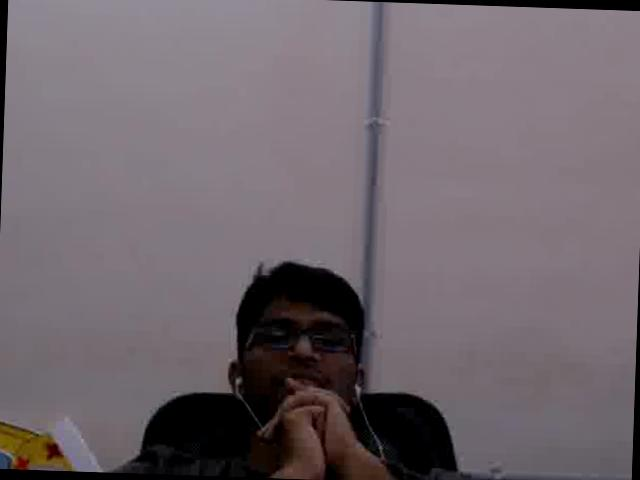bosan: (245, 292, 352, 420)
